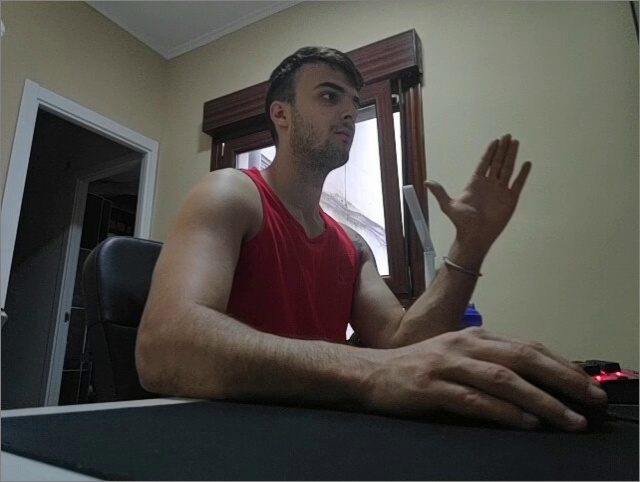Palm: (422, 127, 534, 250)
